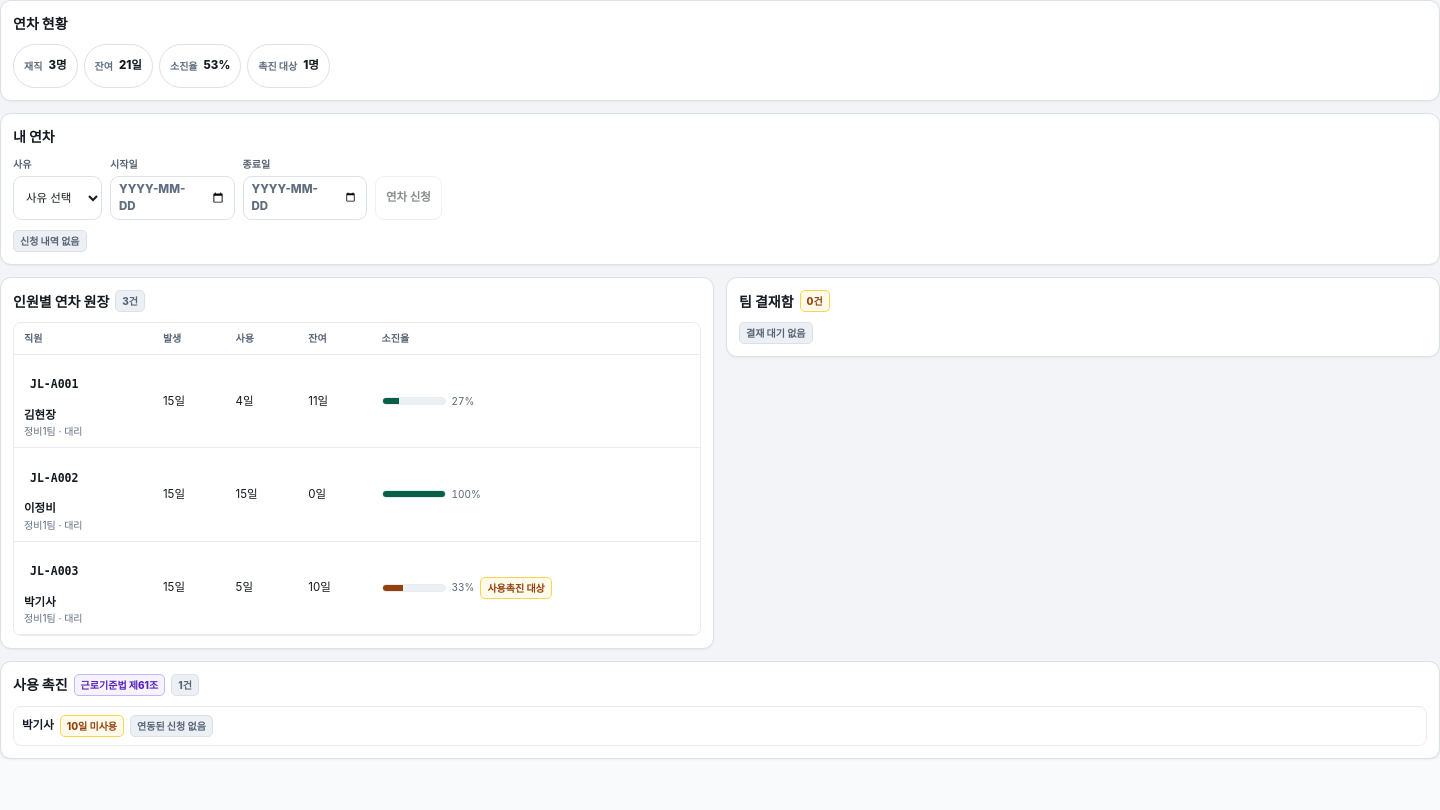
Test case: LeaveConsole (레인1 leave 카드 존, real-wired) › every stat drills: 촉진 대상 filters the ledger to backend-computed tone (§4-11)
Expected: the text "이정비" is shown, x1=24 y1=501 x2=56 y2=515
Click the button "촉진 대상 1명". click: (289, 66)
box: x1=247 y1=44 x2=330 y2=88
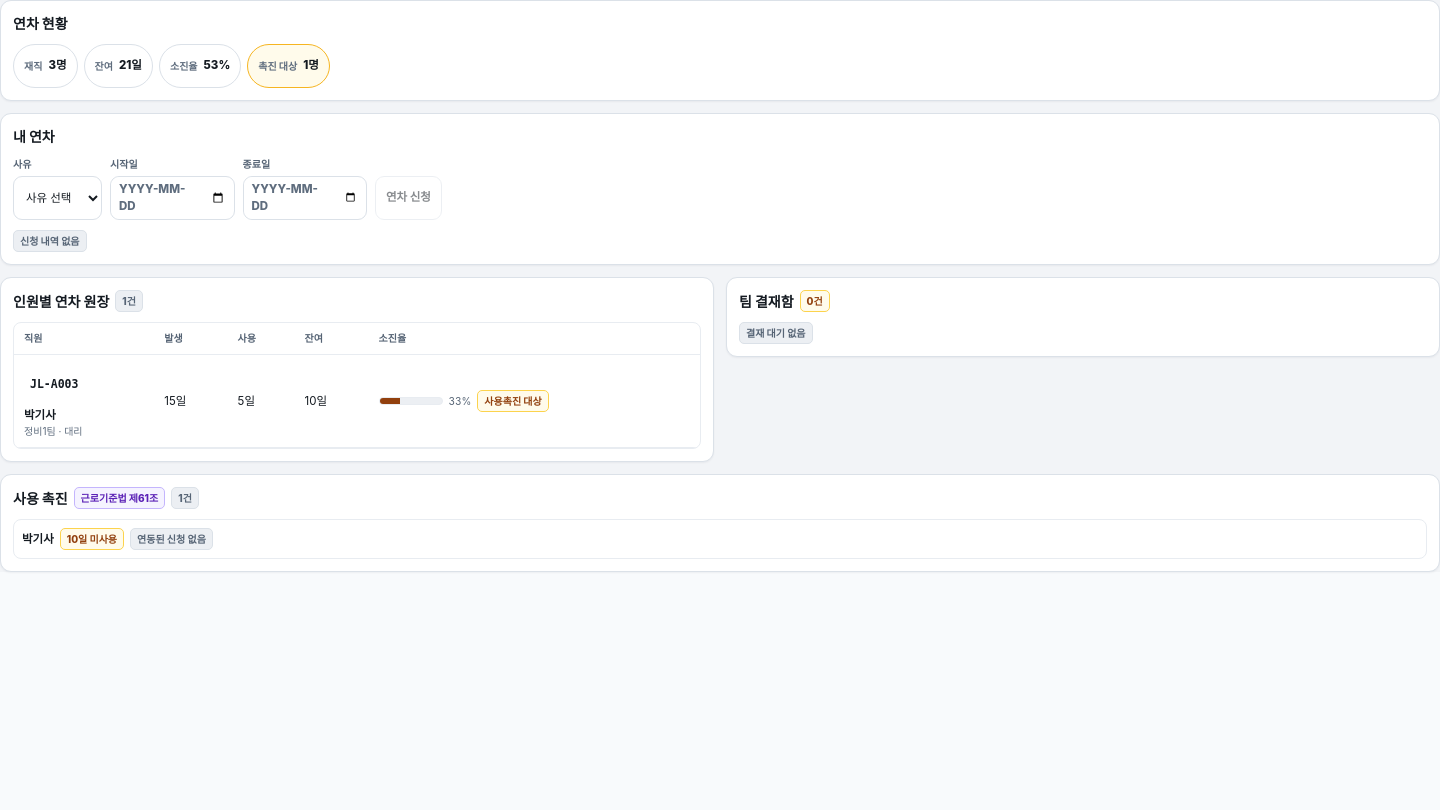
Expected: the text "박기사" below "15일" is shown, x1=24 y1=408 x2=56 y2=422
Now the text "이정비" is gone
